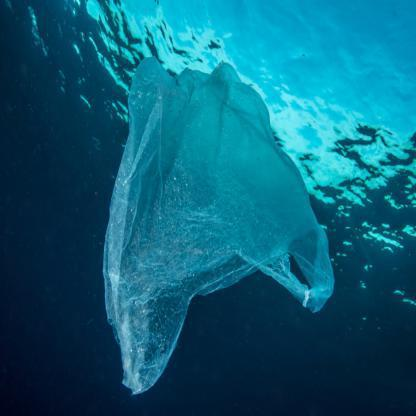Rác: (104, 52, 346, 382)
